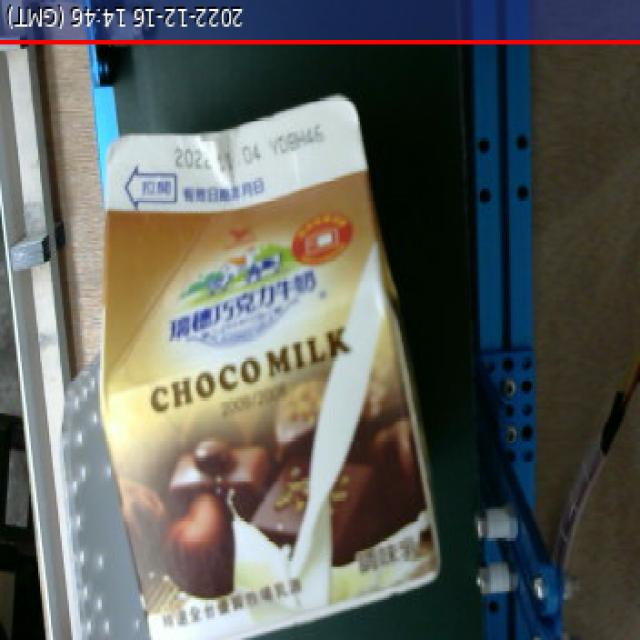non_white_jug: (80, 74, 460, 640)
